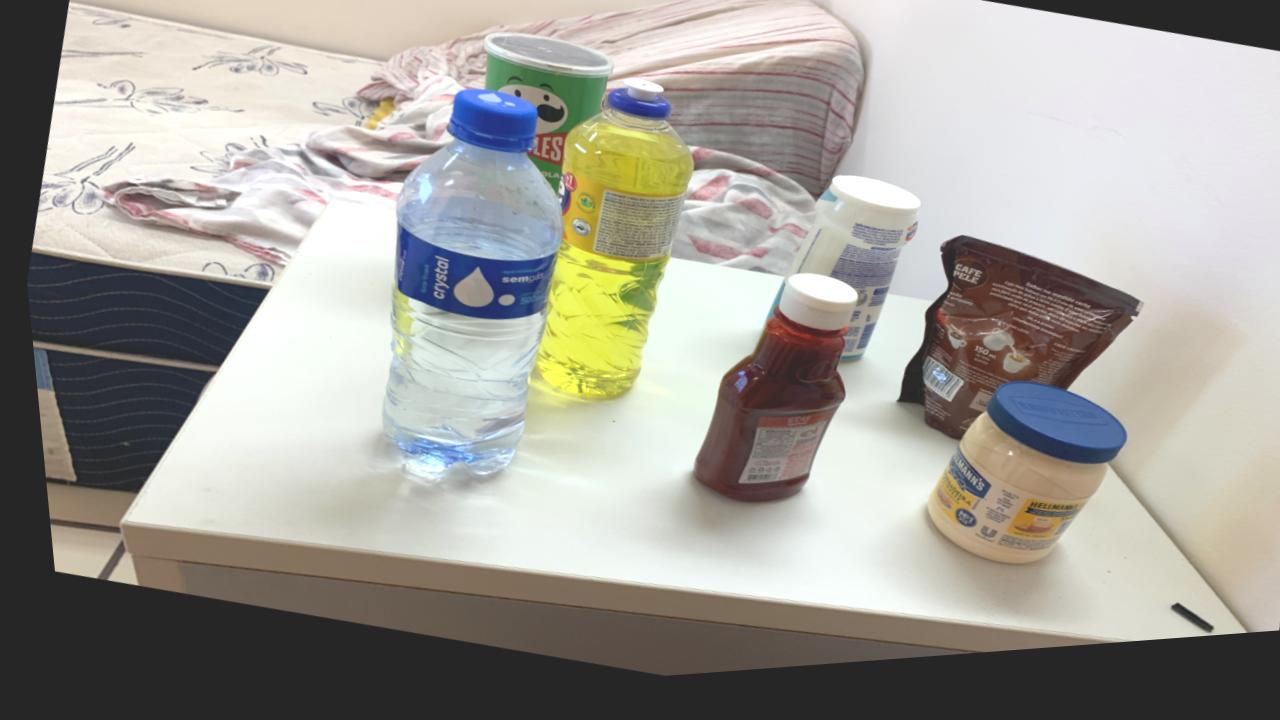Cleaner-Cleanup_Items: (781, 188, 915, 373)
Coffee-Pantry_Items: (889, 250, 1134, 453)
Detergent-Cleanup_Items: (528, 88, 690, 407)
Ketchup-Pantry_Items: (683, 286, 851, 513)
Mayonnaise-Pantry_Items: (916, 397, 1117, 579)
Pringles-Snacks: (482, 39, 611, 198)
Water_Bottle-Drinks: (373, 96, 558, 484)
